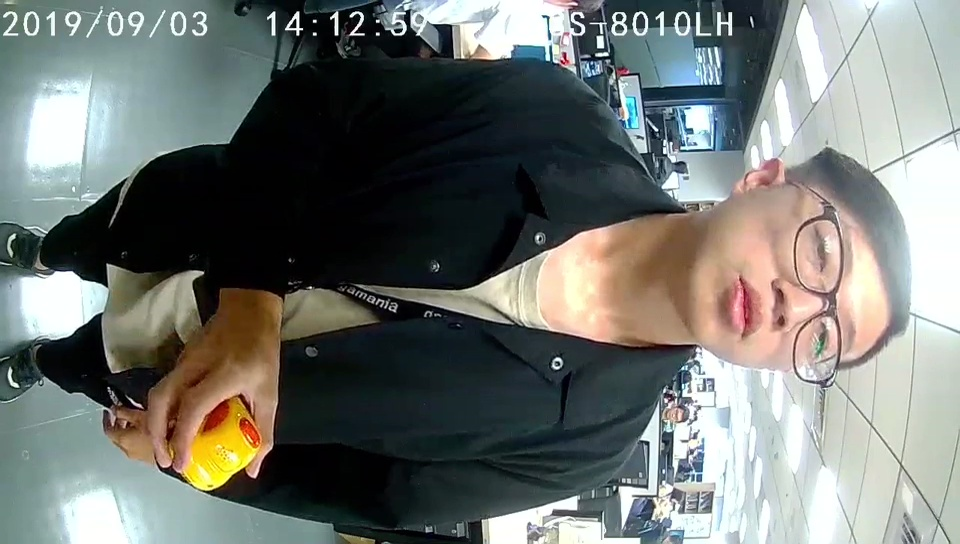car: (186, 394, 261, 490)
